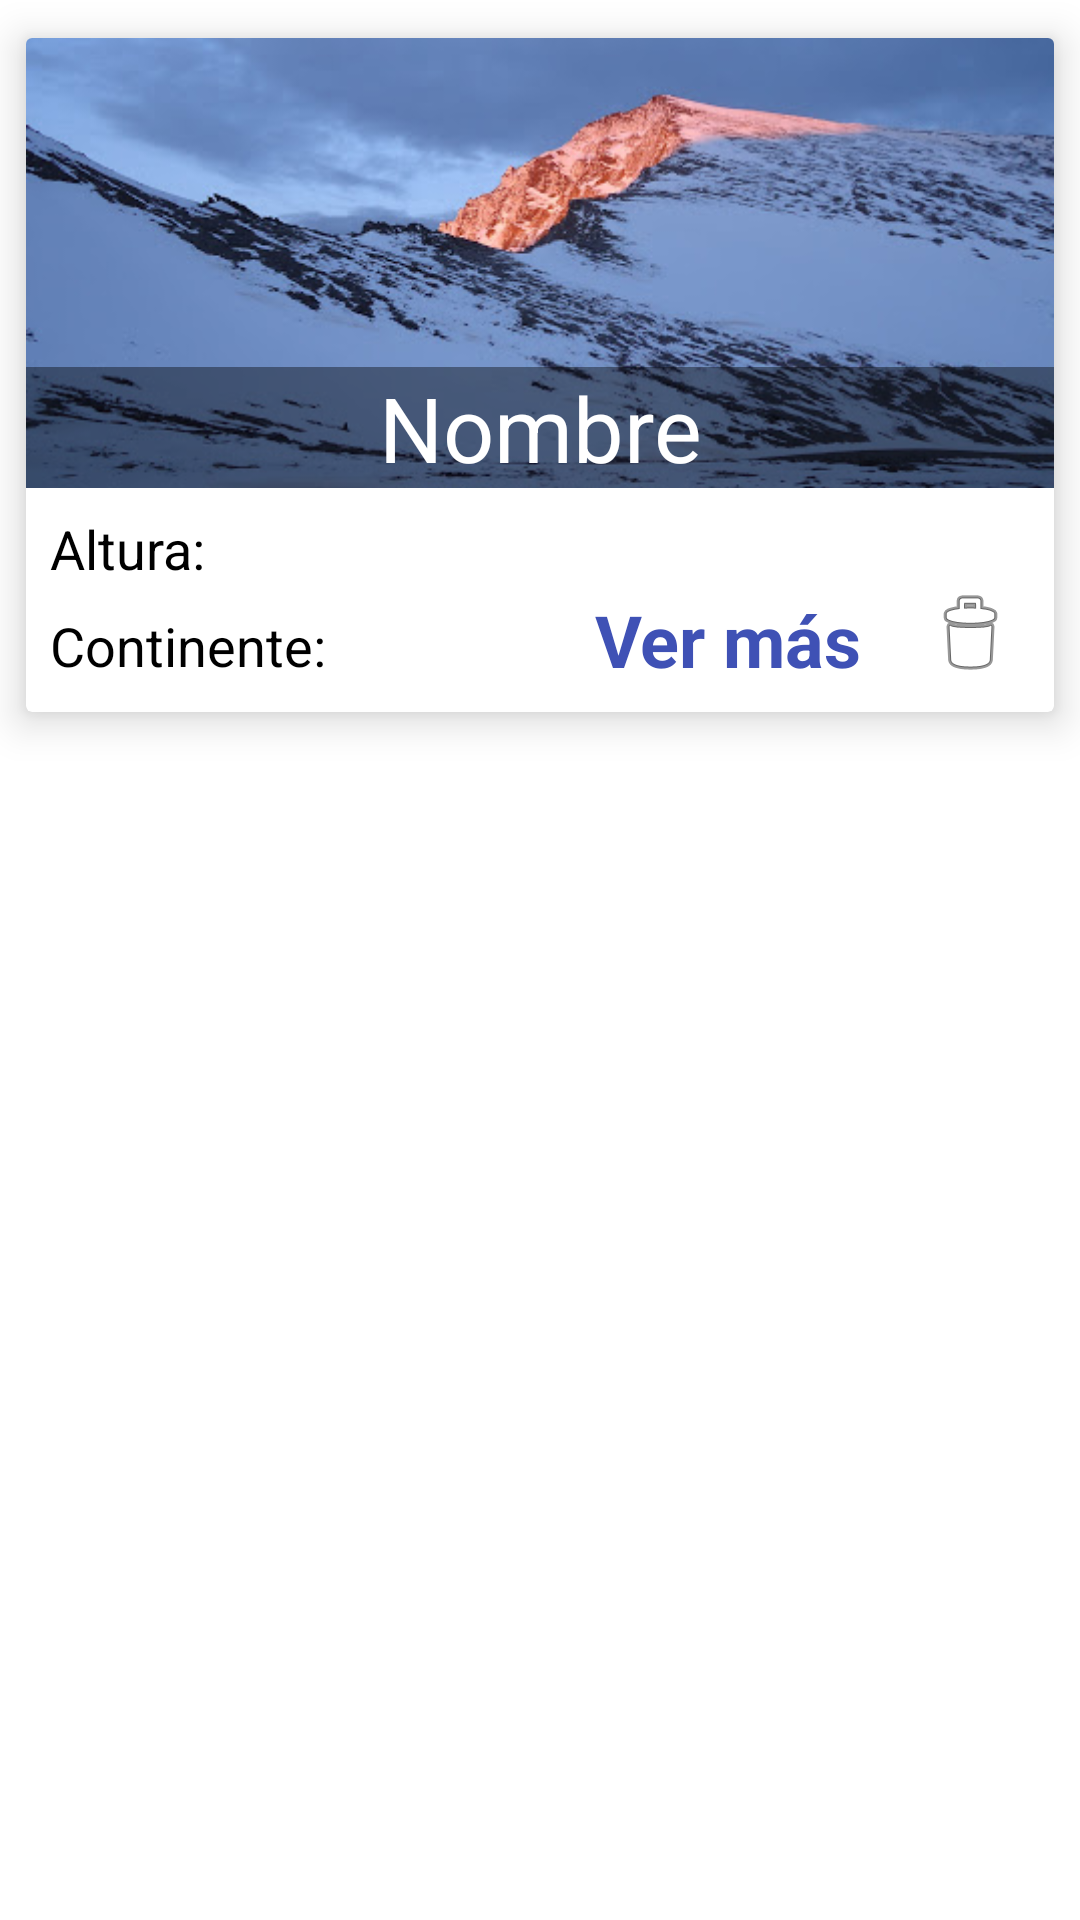

Named icons in this screenshot (1080x1920) and their centers, point (x, y):
delete: point (970, 632)
